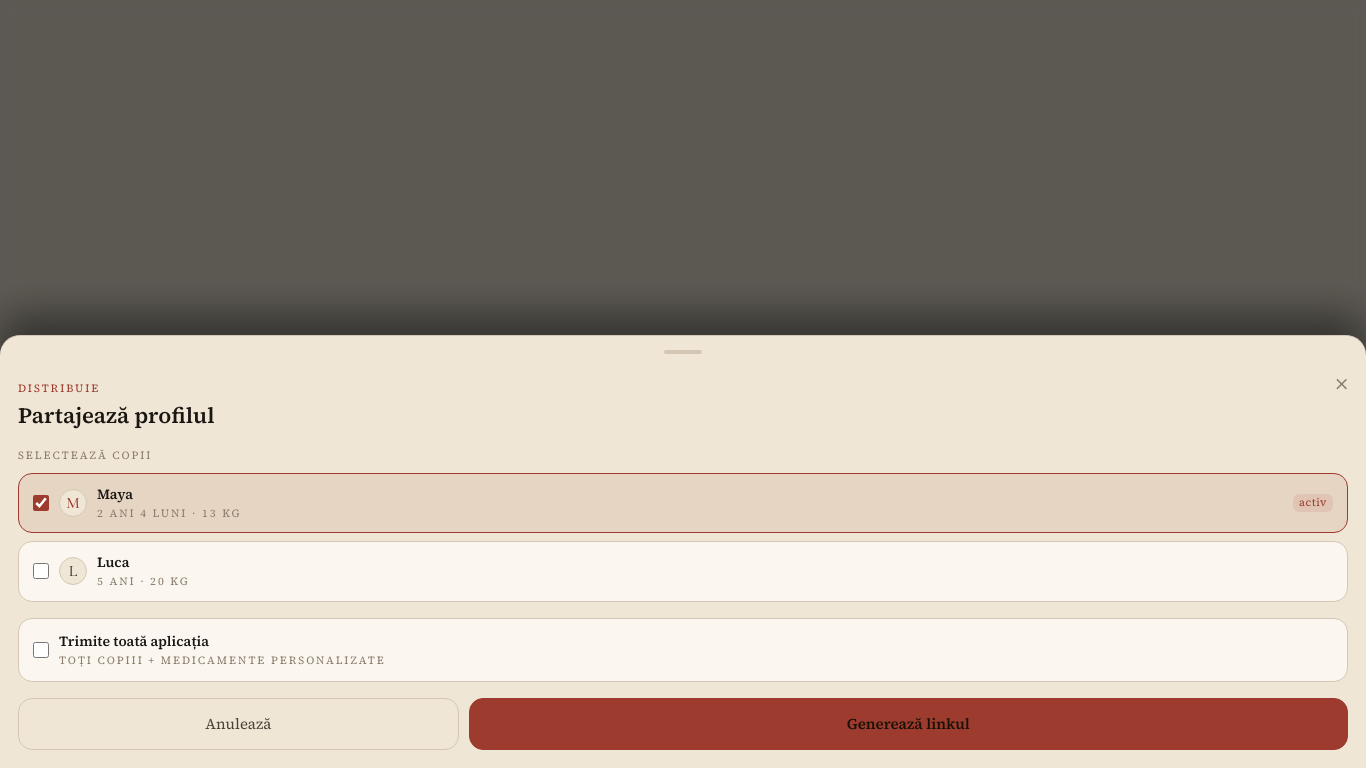
Test case: ShareSheet › disables "Generează linkul" when no child is selected
# Uncheck Maya (the only pre-checked child)
Step 1. Click the text "Maya" → (115, 494), box 18,472 -> 1348,533
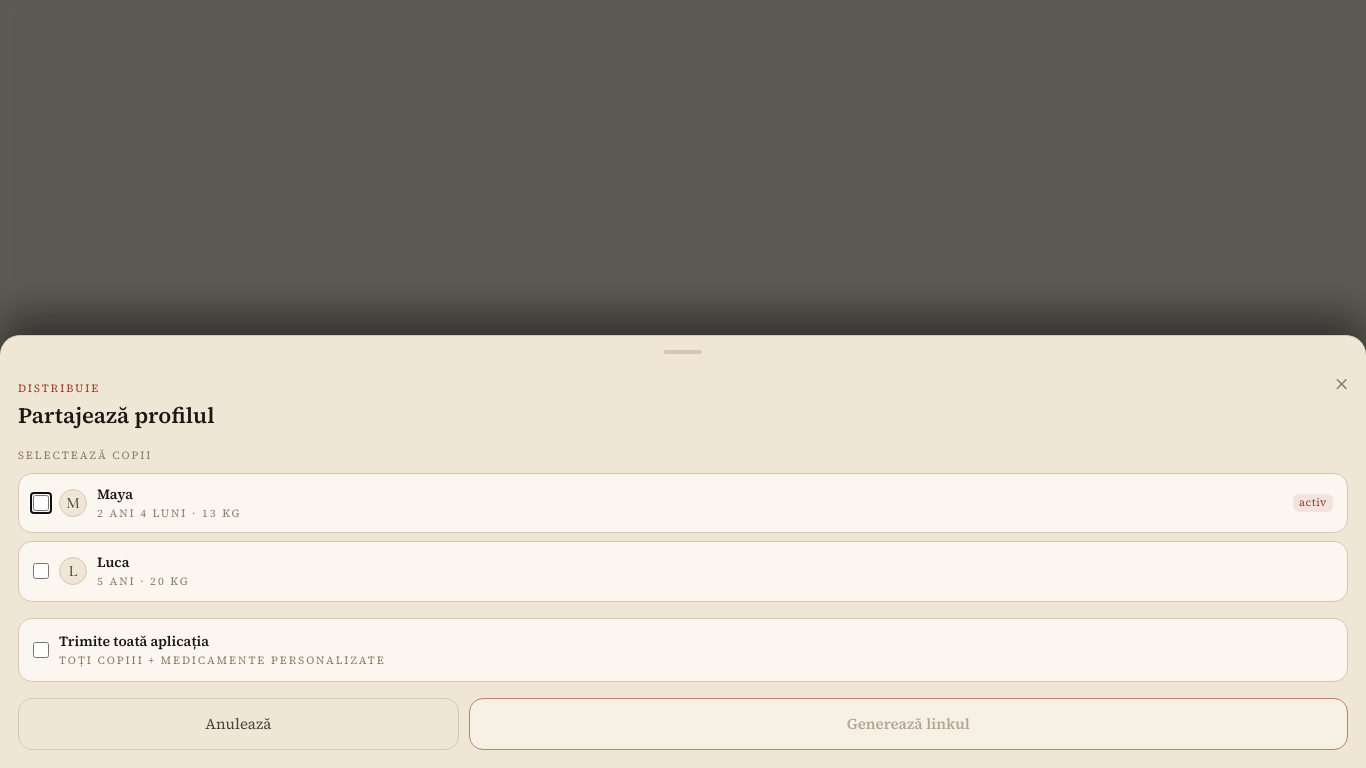
Check: the button "Generează linkul" is disabled, box 469,698 -> 1348,750
